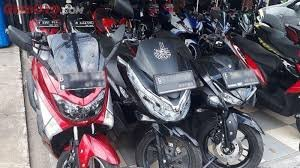motor: (9, 32, 120, 168), (111, 36, 202, 168), (194, 39, 270, 168)
